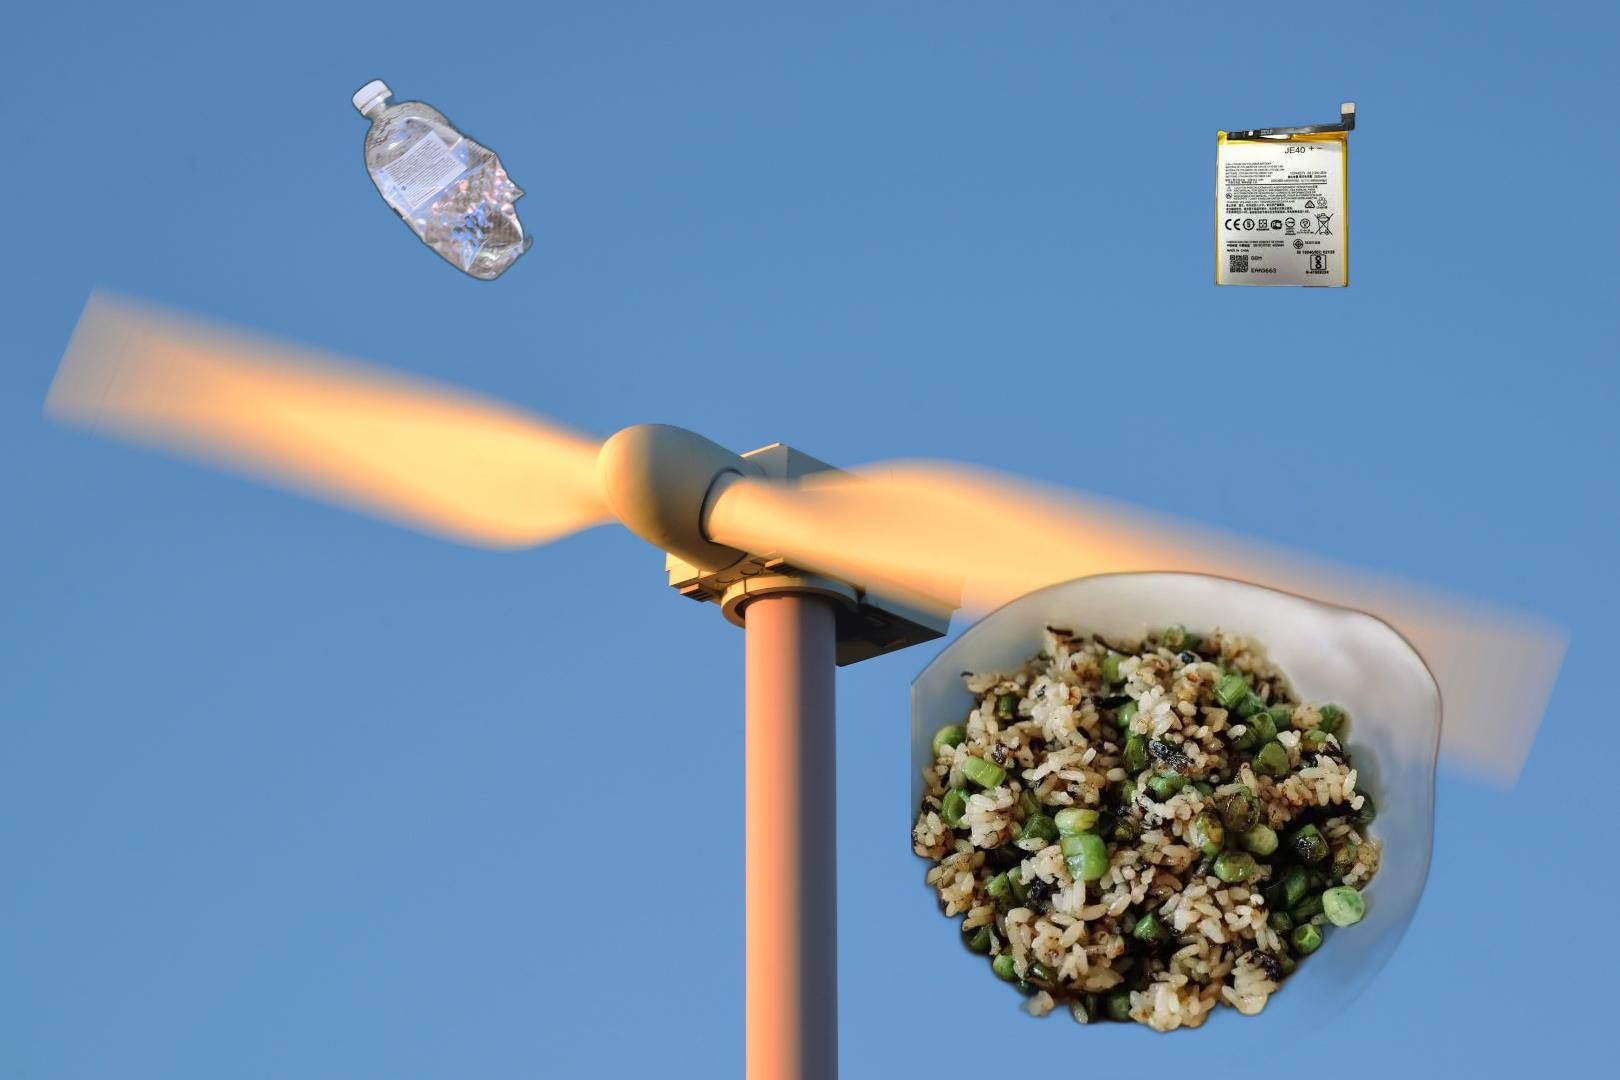battery: (1213, 98, 1358, 290)
biological: (911, 458, 1467, 1080)
plastic-bottles: (347, 74, 538, 287)
